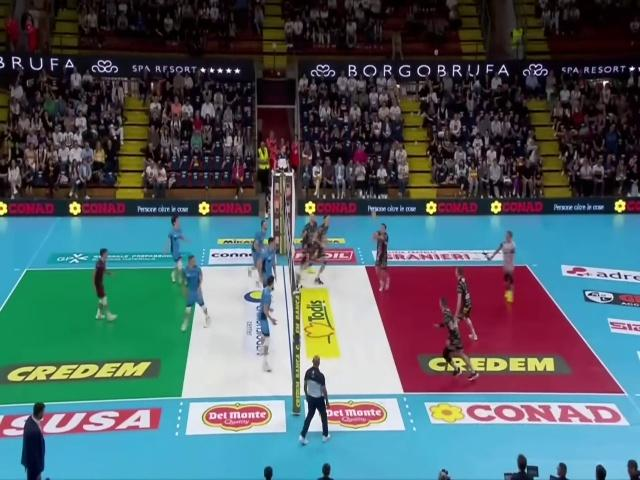volleyball court: (0, 263, 627, 407)
